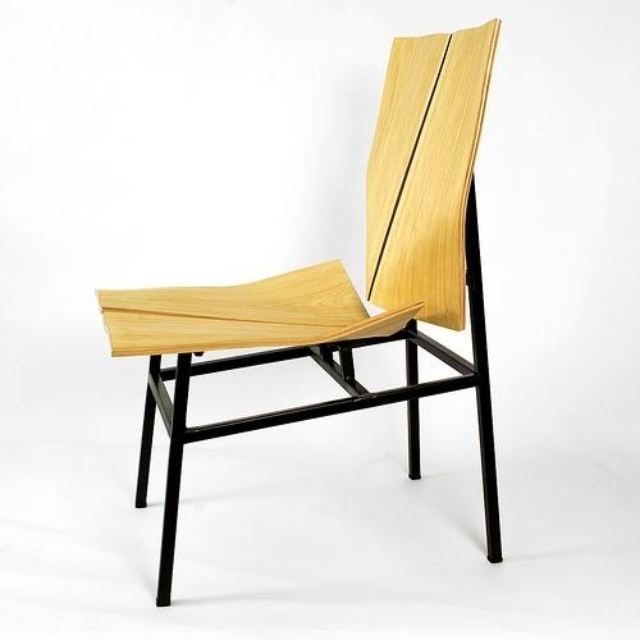obstacle: (97, 19, 502, 604)
